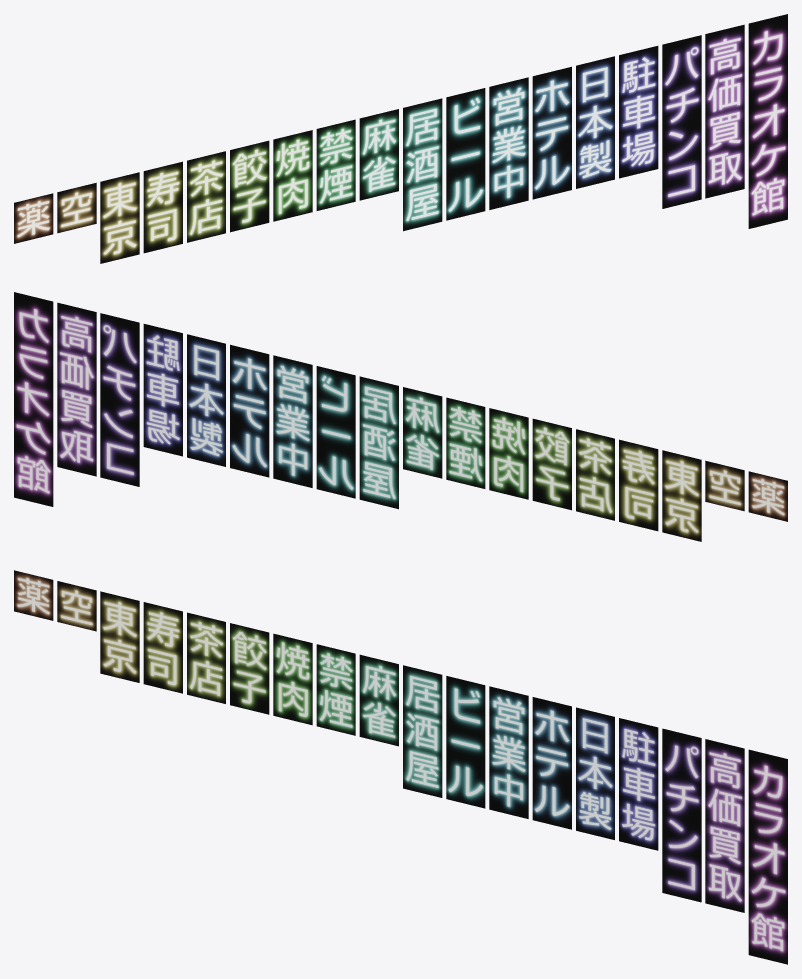
Rendered from neonset.glb.
The picture shows the model from 3 angles, top to bottom: view 1: azimuth 30°, elevation 25°; view 2: azimuth 150°, elevation 25°; view 3: azimuth 330°, elevation 25°; orthographic projection.
Visible parts, largest first — view 1: sign.017, sign.015, sign.016, sign.009, sign.012, sign.014, sign.010, sign.011, sign.013, sign.002, sign.006, sign.008 (+6 smaller); view 2: sign.017, sign.015, sign.016, sign.009, sign.012, sign.014, sign.010, sign.011, sign.013, sign.002, sign.006, sign.008 (+6 smaller); view 3: sign.017, sign.015, sign.016, sign.014, sign.011, sign.012, sign.009, sign.010, sign.013, sign.002, sign.003, sign.005 (+6 smaller).
Part boxes in pixels (x1=…): sign.017: x1=748, y1=14, x2=787, y2=228; sign.015: x1=662, y1=35, x2=701, y2=208; sign.016: x1=705, y1=24, x2=744, y2=198; sign.009: x1=403, y1=98, x2=442, y2=231; sign.012: x1=532, y1=66, x2=571, y2=199; sign.014: x1=619, y1=46, x2=658, y2=178; sign.010: x1=446, y1=88, x2=485, y2=220; sign.011: x1=489, y1=77, x2=528, y2=209; sign.013: x1=576, y1=56, x2=614, y2=188; sign.002: x1=100, y1=172, x2=139, y2=263; sign.006: x1=273, y1=130, x2=312, y2=221; sign.008: x1=359, y1=109, x2=398, y2=200; sign.017: x1=14, y1=292, x2=53, y2=506; sign.015: x1=100, y1=313, x2=139, y2=486; sign.016: x1=57, y1=302, x2=96, y2=476; sign.009: x1=359, y1=376, x2=398, y2=509; sign.012: x1=230, y1=344, x2=269, y2=477; sign.014: x1=143, y1=324, x2=182, y2=456; sign.010: x1=316, y1=366, x2=355, y2=498; sign.011: x1=273, y1=355, x2=312, y2=487; sign.013: x1=187, y1=334, x2=225, y2=466; sign.002: x1=662, y1=450, x2=701, y2=541; sign.006: x1=489, y1=408, x2=528, y2=499; sign.008: x1=403, y1=387, x2=442, y2=478; sign.017: x1=748, y1=749, x2=787, y2=964; sign.015: x1=662, y1=728, x2=701, y2=902; sign.016: x1=705, y1=739, x2=744, y2=912; sign.014: x1=619, y1=718, x2=658, y2=850; sign.011: x1=489, y1=686, x2=528, y2=818; sign.012: x1=532, y1=697, x2=571, y2=829; sign.009: x1=403, y1=665, x2=442, y2=797; sign.010: x1=446, y1=676, x2=485, y2=808; sign.013: x1=576, y1=707, x2=614, y2=839; sign.002: x1=100, y1=591, x2=139, y2=682; sign.003: x1=143, y1=602, x2=182, y2=693; sign.005: x1=230, y1=623, x2=269, y2=714.
Size of the model in its own units: 3940 by 1000 by 0.
Materials: 18 (18 with a texture image).
